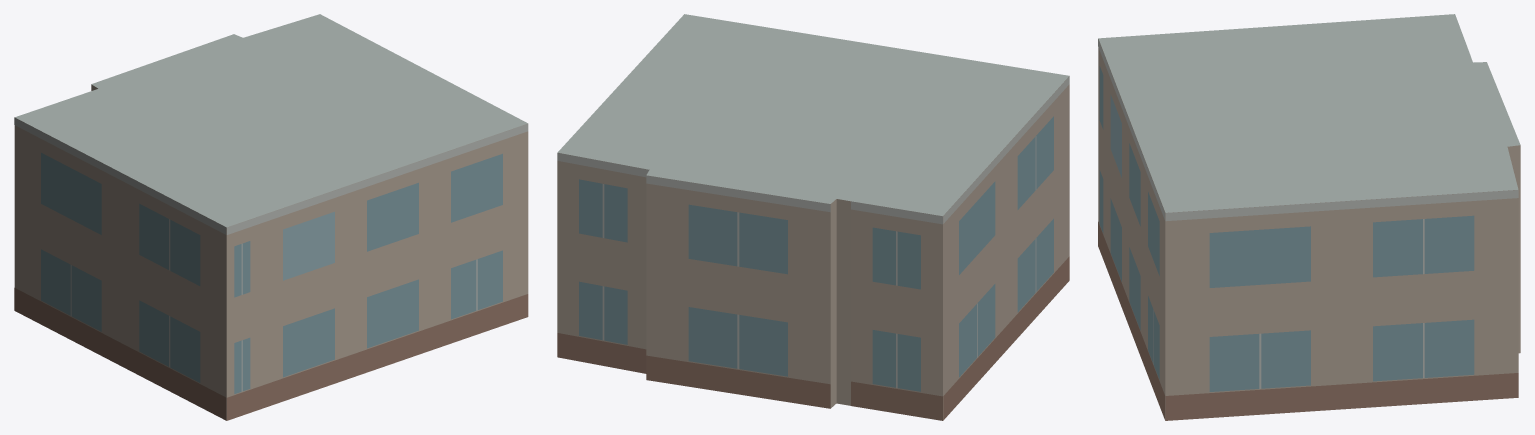
File: survey-upis-32687752.glb
3 views of the same model, side by side, from view 1: azimuth 30°, elevation 25°; view 2: azimuth 150°, elevation 25°; view 3: azimuth 270°, elevation 25° (orthographic). The views are drawn at different scales.
Visible parts, largest first — view 1: survey-upis-32687752.tmp; view 2: survey-upis-32687752.tmp; view 3: survey-upis-32687752.tmp.
Boxes of the visible parts, <box> form: survey-upis-32687752.tmp: <box>14,14,528,420</box>; survey-upis-32687752.tmp: <box>557,14,1069,420</box>; survey-upis-32687752.tmp: <box>1098,14,1520,420</box>.
Bounding box in the file's own units: 12.52 × 6.1 × 11.24.
